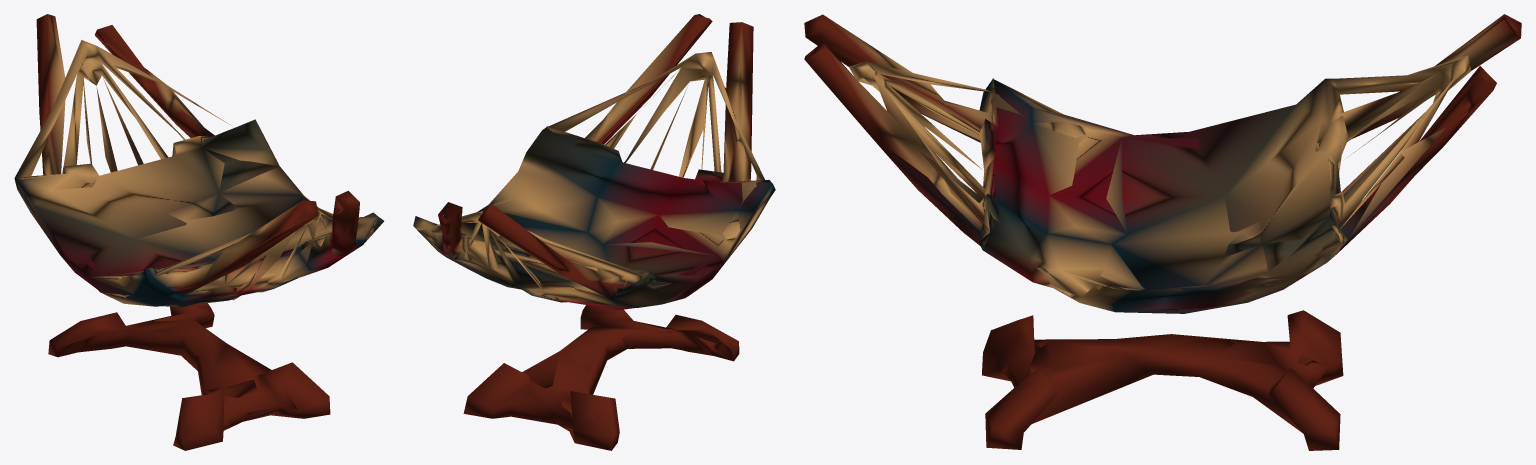
Rendered from gen3d-hammock-lod1.glb.
The picture shows the model from 3 angles, left to right: view 1: azimuth 30°, elevation 25°; view 2: azimuth 150°, elevation 25°; view 3: azimuth 270°, elevation 25°; orthographic projection. The views are drawn at different scales.
Visible parts, largest first — view 1: part_0; view 2: part_0; view 3: part_0.
Boxes of the visible parts, x1,y1,x2,y2 form: part_0: (14, 14, 383, 450); part_0: (413, 14, 775, 450); part_0: (804, 14, 1521, 450).
Size of the model in its own units: 0.8968 by 0.9989 by 1.72.
